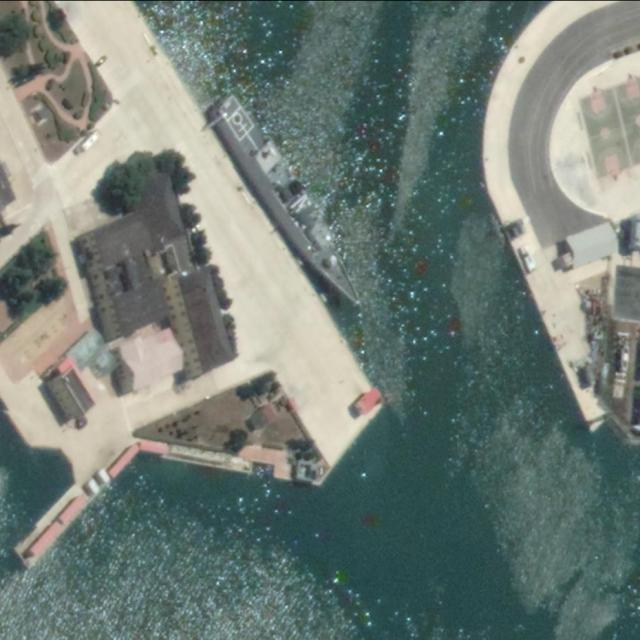Auxiliary Ships: (212, 84, 370, 311)
